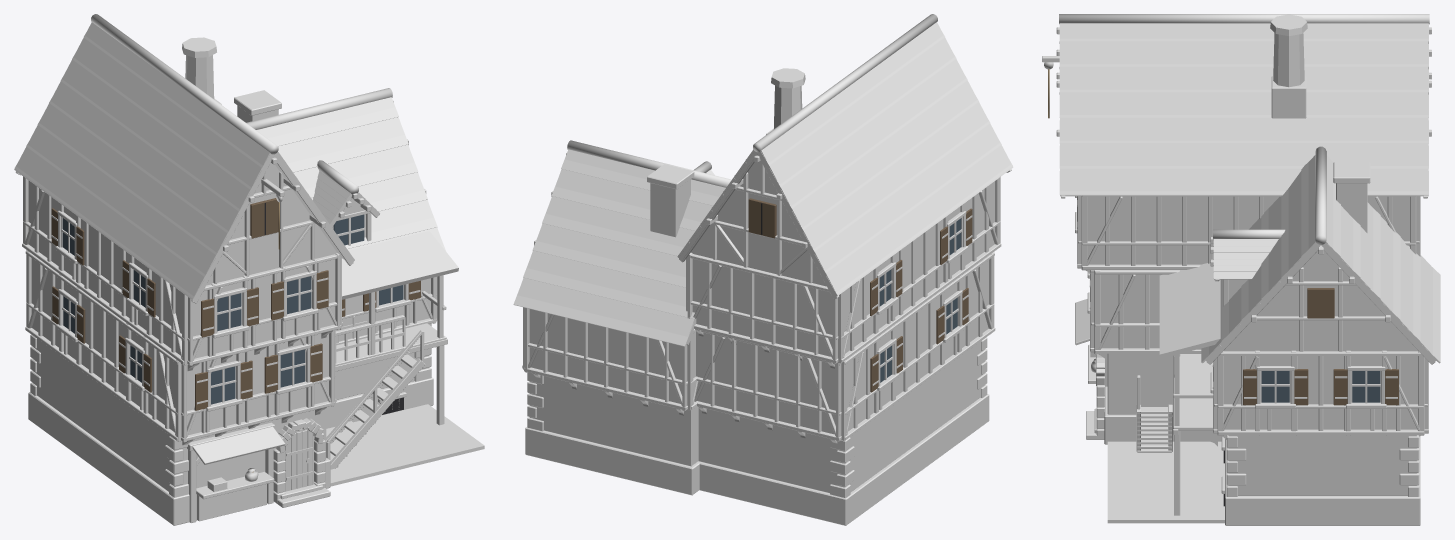
The model's file is ville_14_collees_angle_rue.fbx.
3 renders of one model, left to right at view 1: azimuth 30°, elevation 25°; view 2: azimuth 150°, elevation 25°; view 3: azimuth 270°, elevation 25°, orthographic. The views are drawn at different scales.
Parts seen in each view (by area): view 1: ville_14_collees_angle_rue_LOD0; view 2: ville_14_collees_angle_rue_LOD0; view 3: ville_14_collees_angle_rue_LOD0.
Boxes of the visible parts, x1=… form: ville_14_collees_angle_rue_LOD0: x1=14, y1=14, x2=484, y2=525; ville_14_collees_angle_rue_LOD0: x1=513, y1=14, x2=1013, y2=525; ville_14_collees_angle_rue_LOD0: x1=1042, y1=14, x2=1440, y2=525.
Size of what is drawn, in the model's own units: 10.35 by 11.75 by 10.55.
